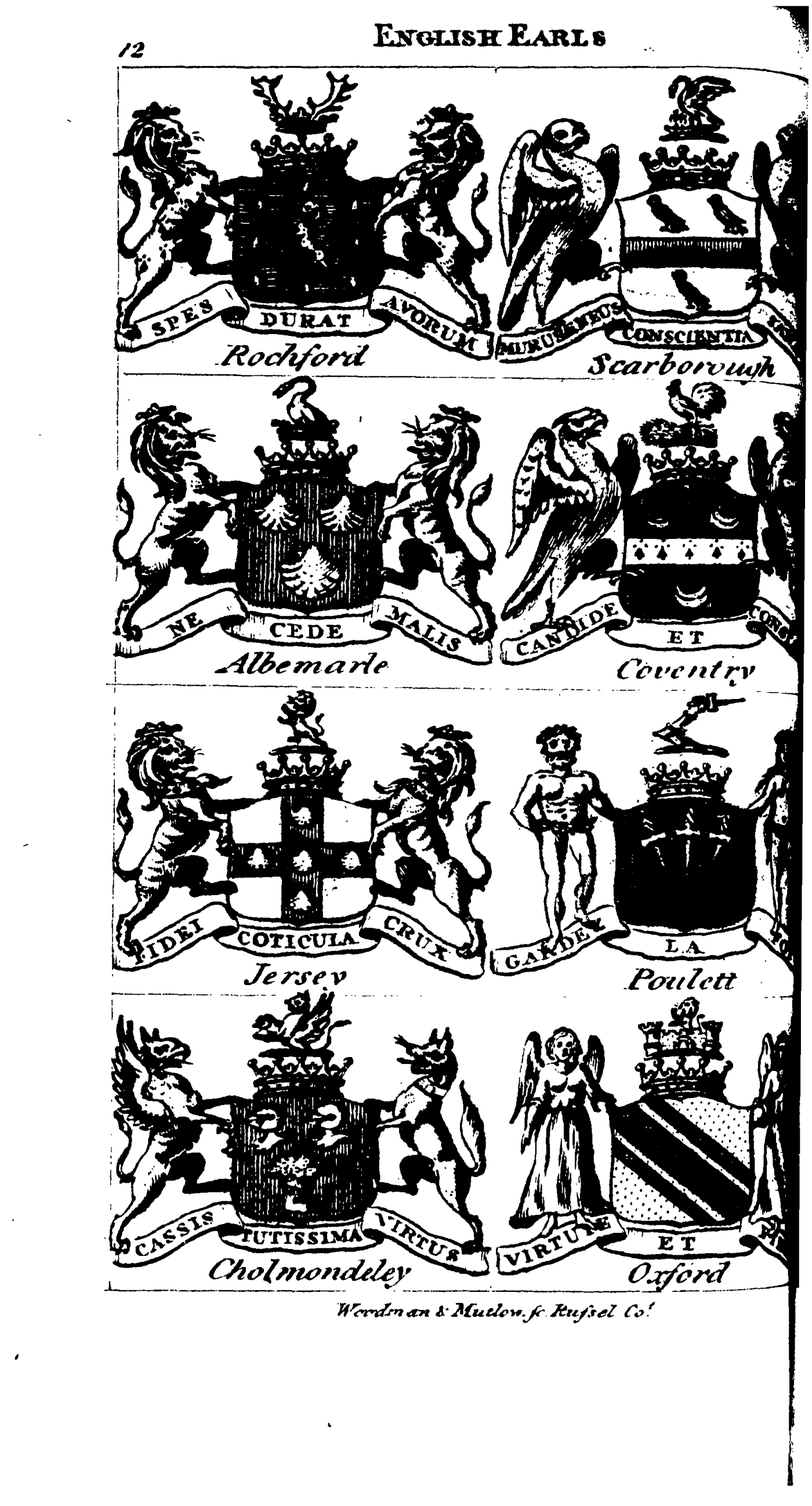coat_of_arms: (108, 986, 494, 1295), (118, 69, 498, 381), (117, 680, 491, 993), (124, 381, 496, 685), (496, 66, 808, 385), (498, 381, 798, 690), (496, 689, 794, 999), (496, 990, 796, 1293)
